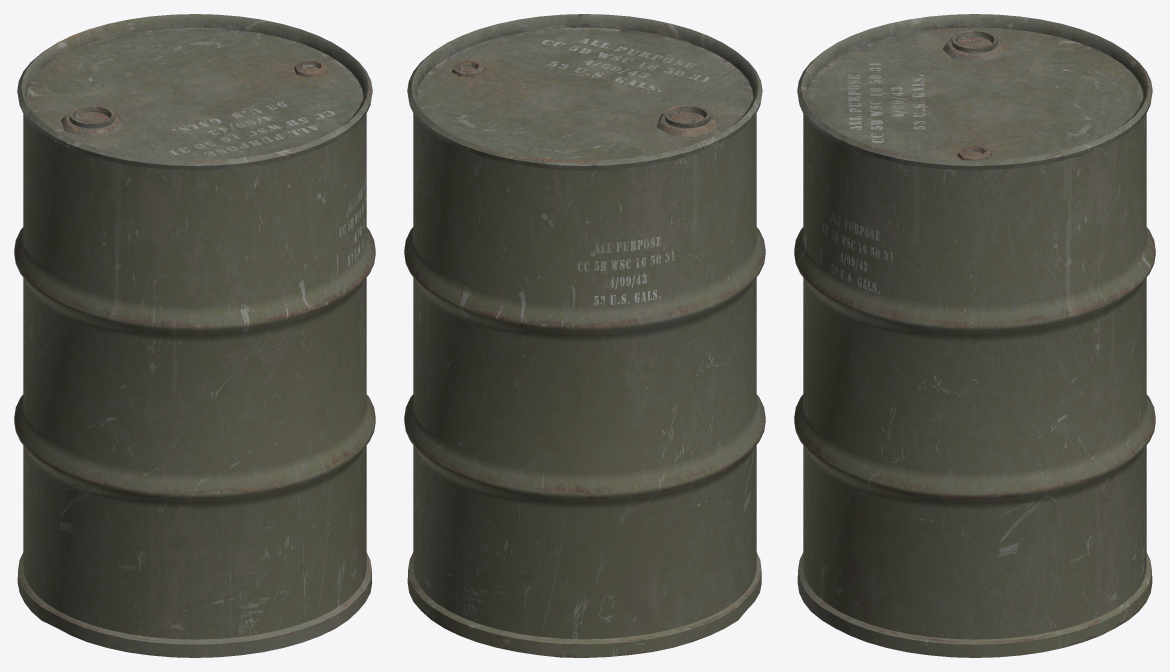
3 views of the same model, side by side, from view 1: azimuth 30°, elevation 25°; view 2: azimuth 150°, elevation 25°; view 3: azimuth 270°, elevation 25° (orthographic).
Parts seen in each view (by area): view 1: us_barrel; view 2: us_barrel; view 3: us_barrel.
Boxes of the visible parts, left/top/right/bottom form: us_barrel: left=14, top=14, right=375, bottom=657; us_barrel: left=404, top=14, right=765, bottom=657; us_barrel: left=794, top=14, right=1155, bottom=657.
Size of the model in its own units: 29.03 by 29.04 by 43.92.
